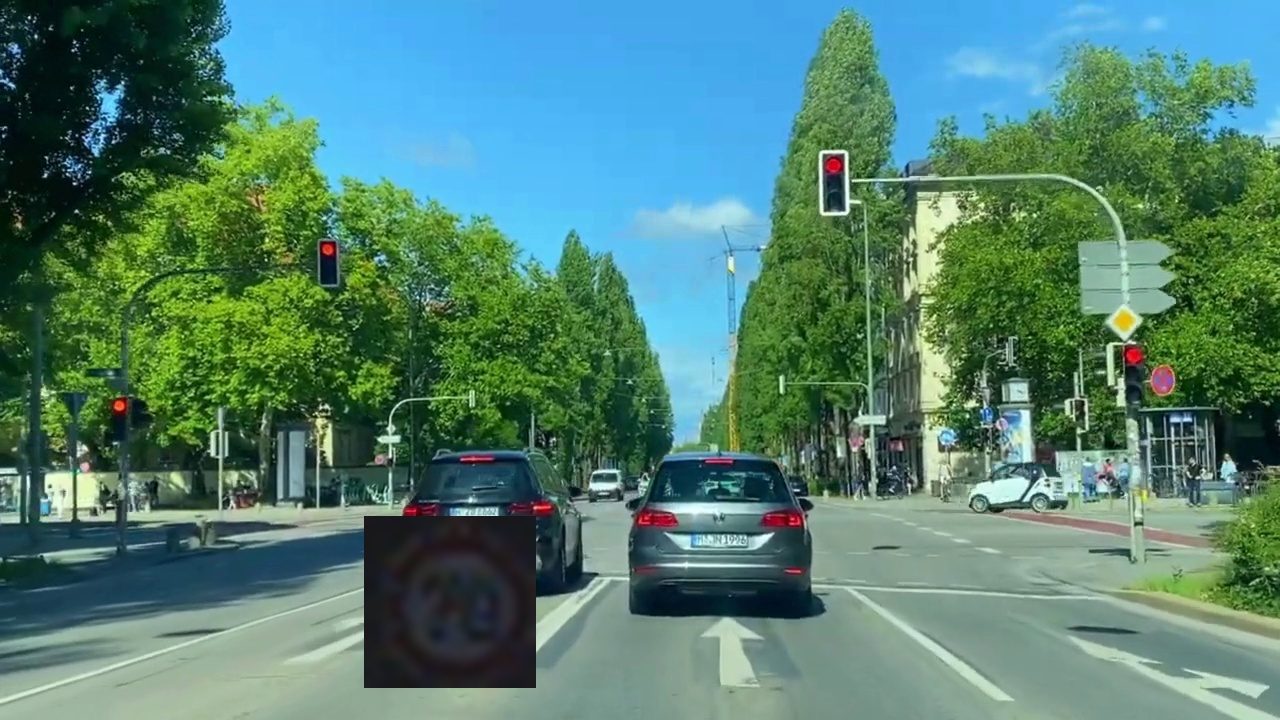Speed 70: (364, 516, 536, 688)
